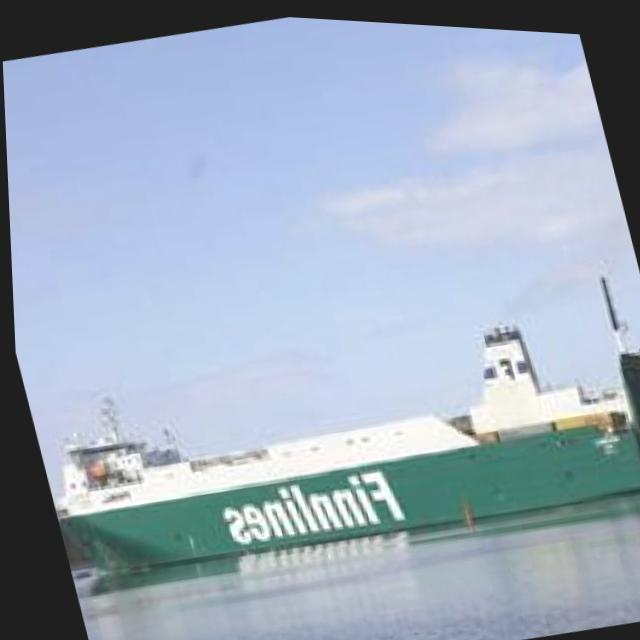ship2: (49, 269, 640, 574)
